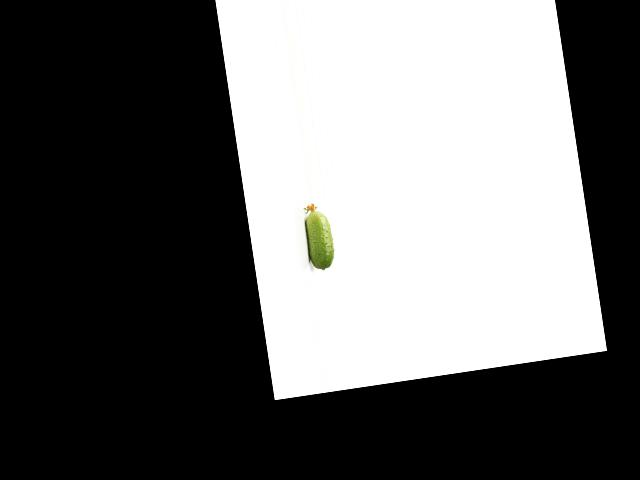cucumber: (301, 202, 336, 272)
